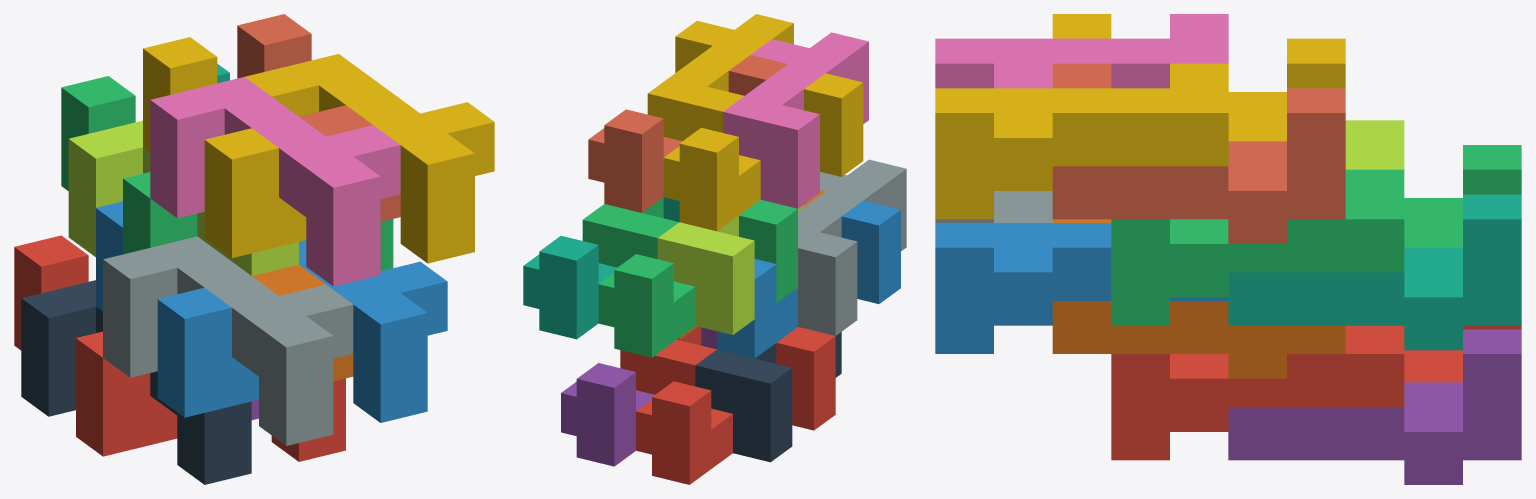
Rendered from tiling.obj.
The picture shows the model from 3 angles, left to right: view 1: azimuth 30°, elevation 25°; view 2: azimuth 150°, elevation 25°; view 3: azimuth 270°, elevation 25°; orthographic projection. The views are drawn at different scales.
Parts seen in each view (by area): view 1: copy_2_domain_2, copy_2_domain_4, copy_2_domain_8, copy_1_domain_4, copy_2_domain_1, copy_2_domain_6, copy_1_domain_1, copy_1_domain_2, copy_2_domain_3, copy_1_domain_3, copy_1_domain_8, copy_2_domain_5 (+2 smaller); view 2: copy_2_domain_4, copy_1_domain_4, copy_1_domain_1, copy_1_domain_3, copy_2_domain_2, copy_2_domain_8, copy_1_domain_2, copy_2_domain_1, copy_1_domain_8, copy_2_domain_3, copy_1_domain_7, copy_1_domain_5 (+2 smaller); view 3: copy_2_domain_8, copy_1_domain_8, copy_1_domain_7, copy_1_domain_5, copy_2_domain_7, copy_2_domain_5, copy_2_domain_6, copy_2_domain_4, copy_1_domain_6, copy_1_domain_4, copy_1_domain_3, copy_2_domain_3 (+2 smaller).
Boxes of the visible parts, x1,y1,x2,y2 form: copy_2_domain_2: (103, 236, 353, 445); copy_2_domain_4: (150, 77, 400, 286); copy_2_domain_8: (245, 54, 494, 263); copy_1_domain_4: (143, 37, 306, 257); copy_2_domain_1: (21, 280, 251, 484); copy_2_domain_6: (299, 240, 447, 422); copy_1_domain_1: (14, 235, 177, 456); copy_1_domain_2: (96, 201, 258, 417); copy_2_domain_3: (68, 120, 298, 275); copy_1_domain_3: (61, 76, 197, 254); copy_1_domain_8: (237, 14, 400, 221); copy_2_domain_5: (271, 378, 345, 461); copy_2_domain_4: (723, 32, 868, 208); copy_1_domain_4: (663, 73, 863, 231); copy_1_domain_1: (636, 327, 835, 484); copy_1_domain_3: (598, 199, 797, 357); copy_2_domain_2: (798, 159, 906, 335); copy_2_domain_8: (647, 14, 793, 141); copy_1_domain_2: (717, 200, 900, 358); copy_2_domain_1: (695, 332, 841, 462); copy_1_domain_8: (588, 55, 787, 212); copy_2_domain_3: (657, 205, 803, 334); copy_1_domain_7: (523, 197, 679, 339); copy_1_domain_5: (561, 327, 716, 466); copy_2_domain_8: (935, 63, 1228, 219); copy_1_domain_8: (1052, 63, 1345, 243); copy_1_domain_7: (1228, 194, 1521, 350); copy_1_domain_5: (1228, 329, 1521, 484); copy_2_domain_7: (1111, 169, 1404, 325); copy_2_domain_5: (1111, 325, 1404, 460); copy_2_domain_6: (935, 223, 1228, 353); copy_2_domain_4: (935, 14, 1228, 88); copy_1_domain_6: (1052, 219, 1345, 378); copy_1_domain_4: (1052, 14, 1345, 141); copy_1_domain_3: (1404, 145, 1521, 247); copy_2_domain_3: (1345, 120, 1404, 169).
Bounding box in the file's own units: 6 × 7 × 10.
